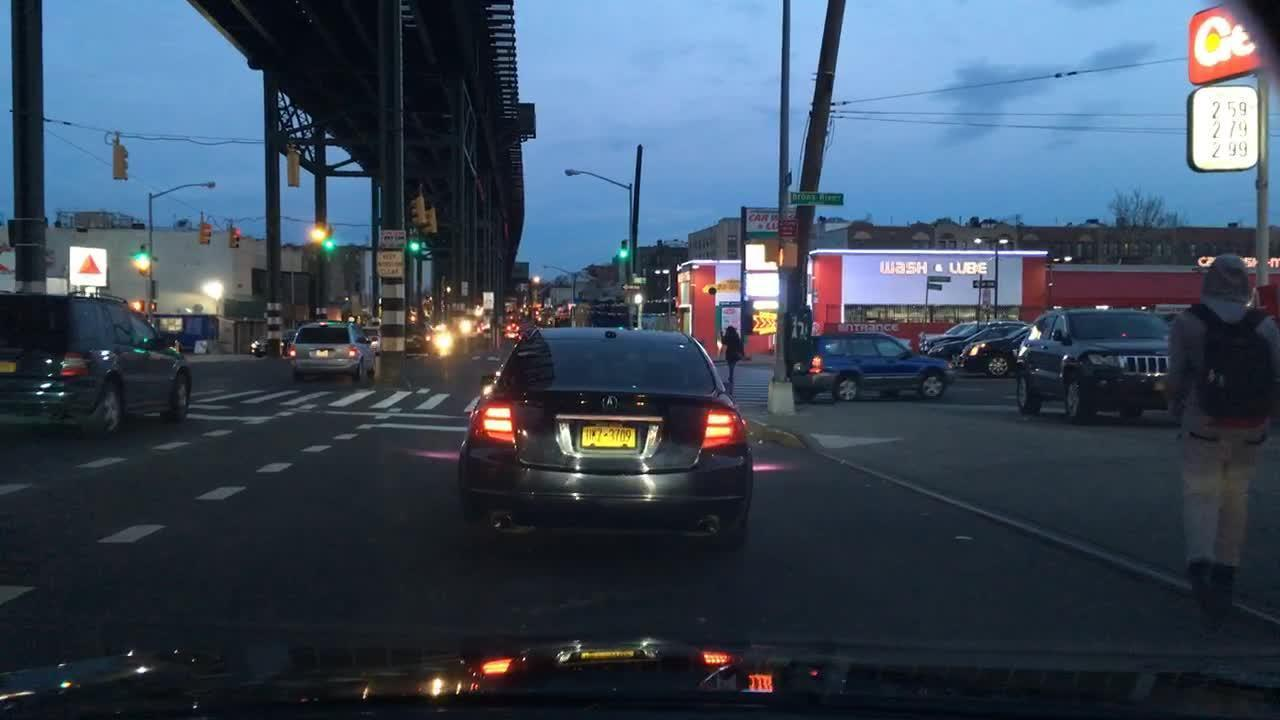acura: (598, 390, 626, 414)
